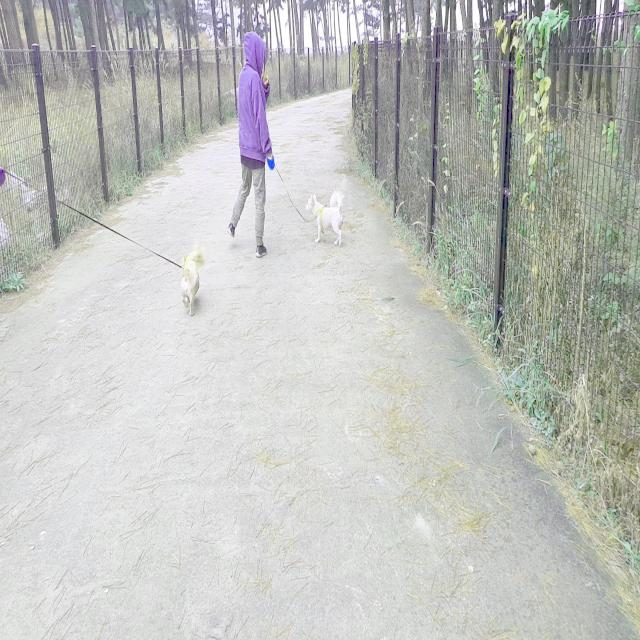Dog: (181, 245, 205, 316)
Leashed_Dog: (252, 145, 346, 248)
